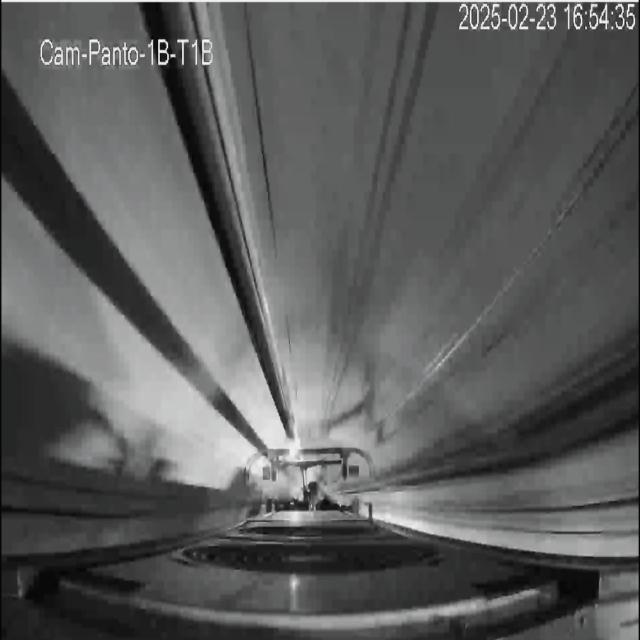Camera Stamp: (40, 34, 217, 70)
Date Stamp: (458, 3, 636, 33)
Sparks: (281, 427, 304, 470)
